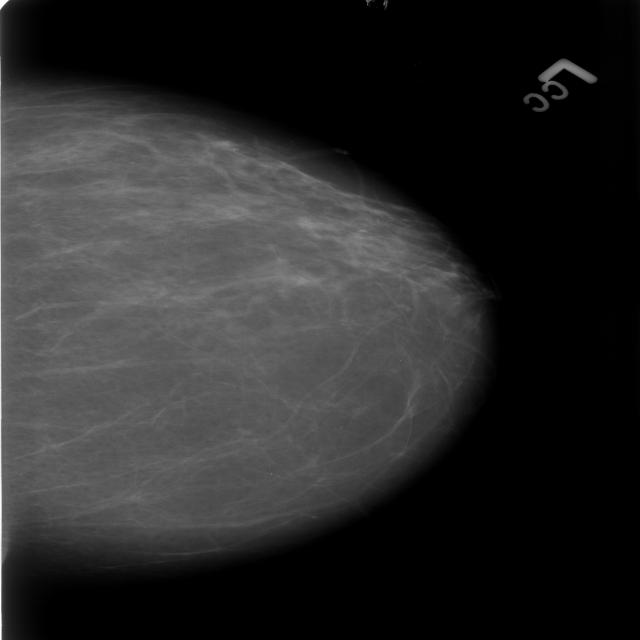normal: (13, 97, 484, 554)
